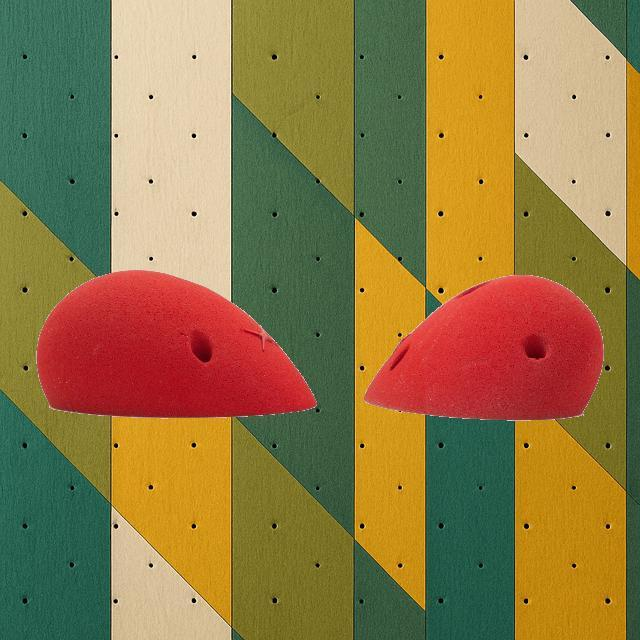Sloper: (35, 269, 317, 419), (362, 274, 604, 421)
